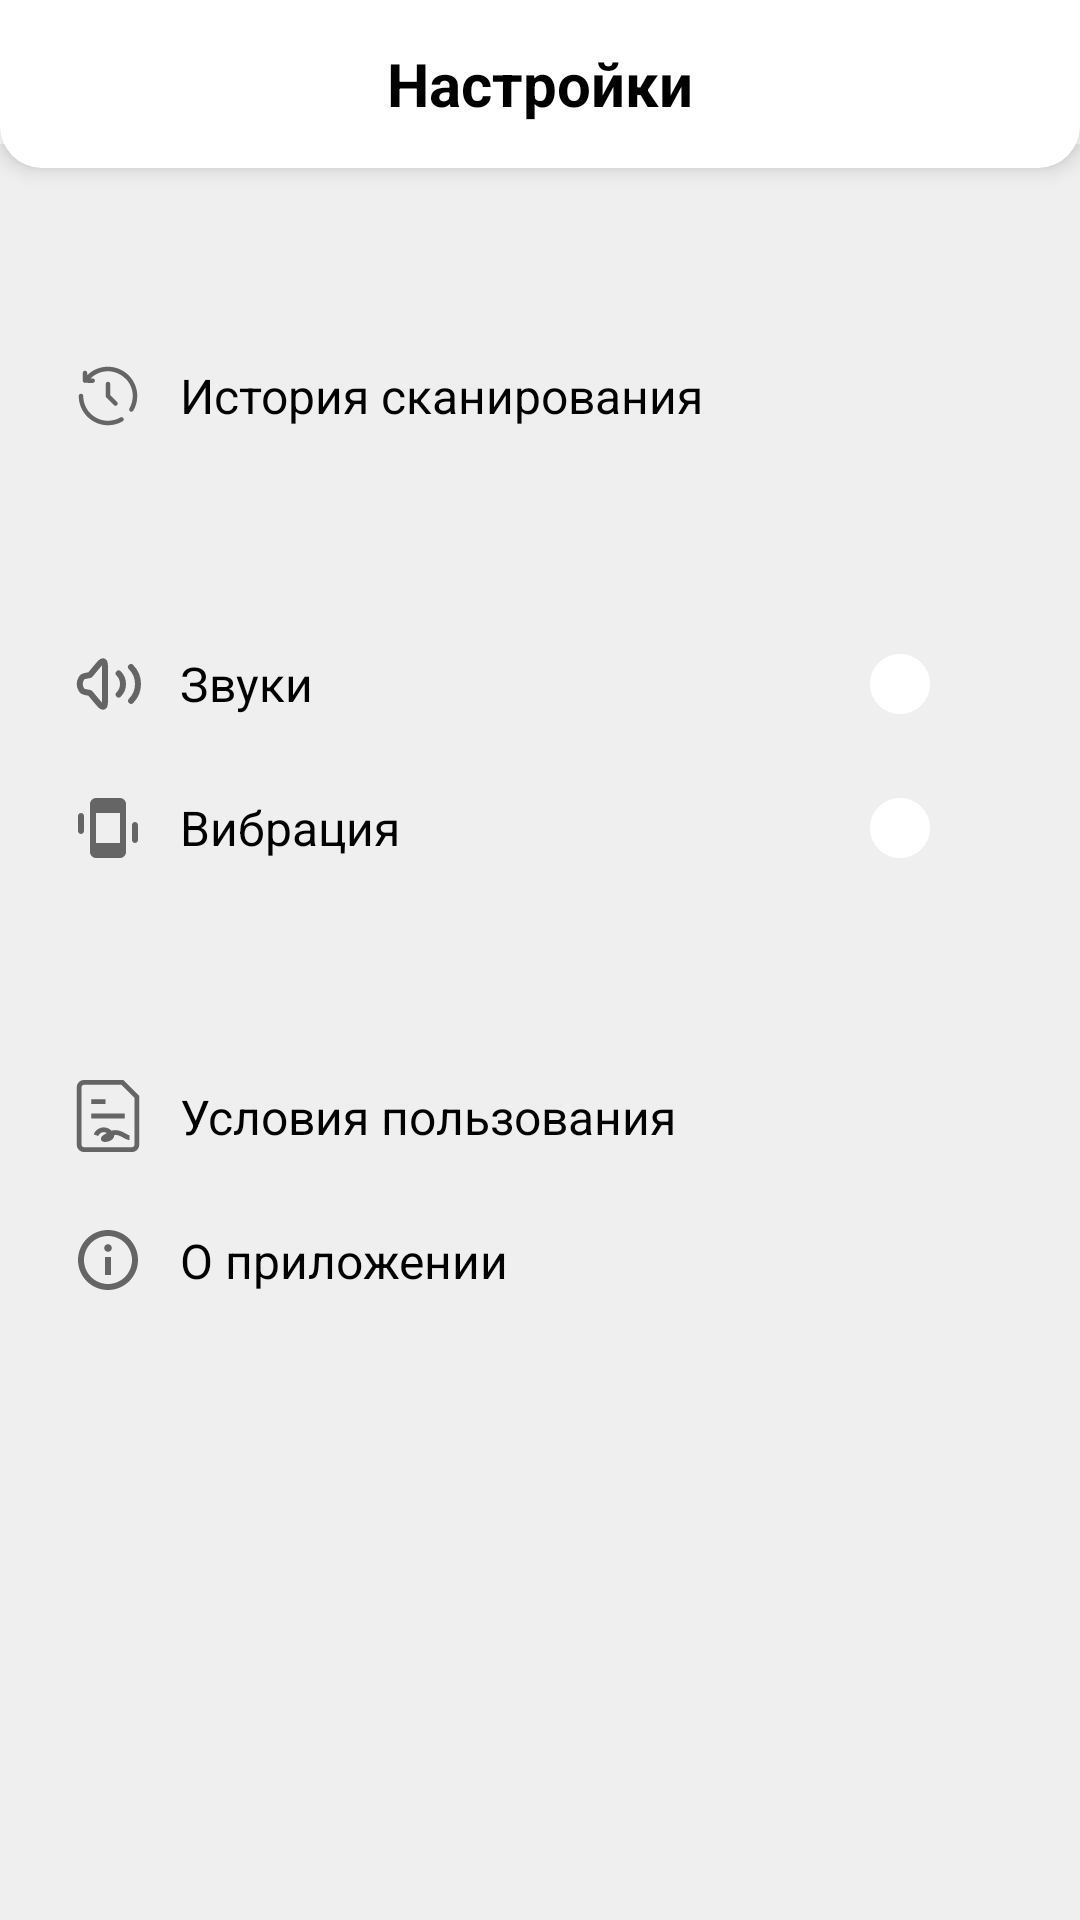

Icon click points for this 1080w x 1920h phone screenshot, format [x,y]:
about: [108,1260]
contract: [108,1116]
history: [108,396]
sound: [108,684]
vibration: [108,828]
